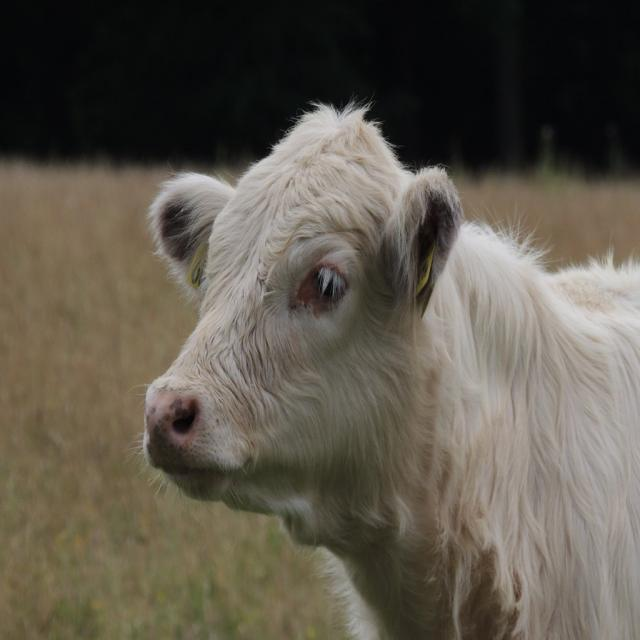Cattle: (118, 75, 640, 631)
